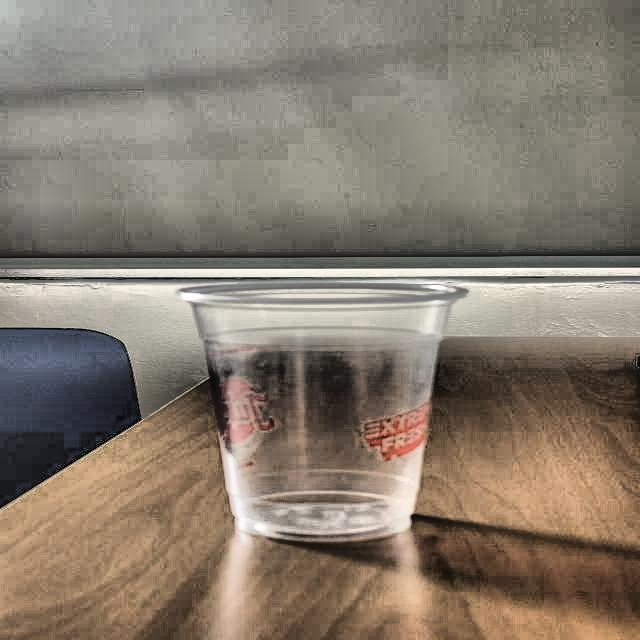plastic cup: (176, 278, 470, 544)
